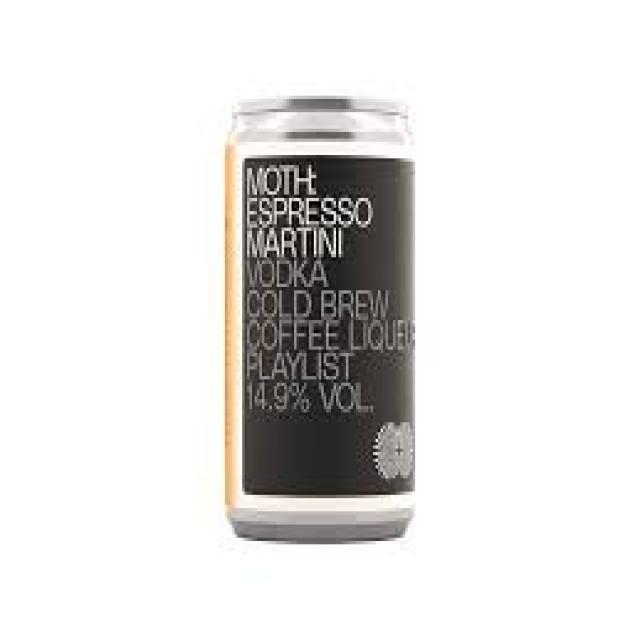Cans: (212, 82, 435, 554)
